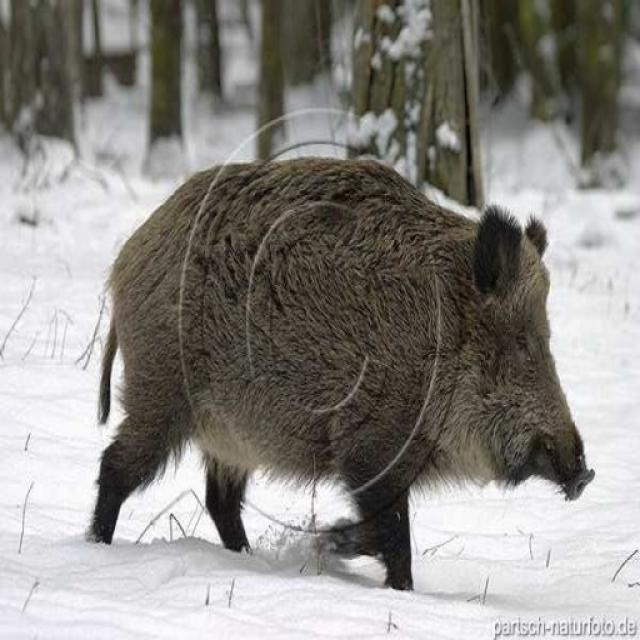pig: (86, 123, 640, 577)
